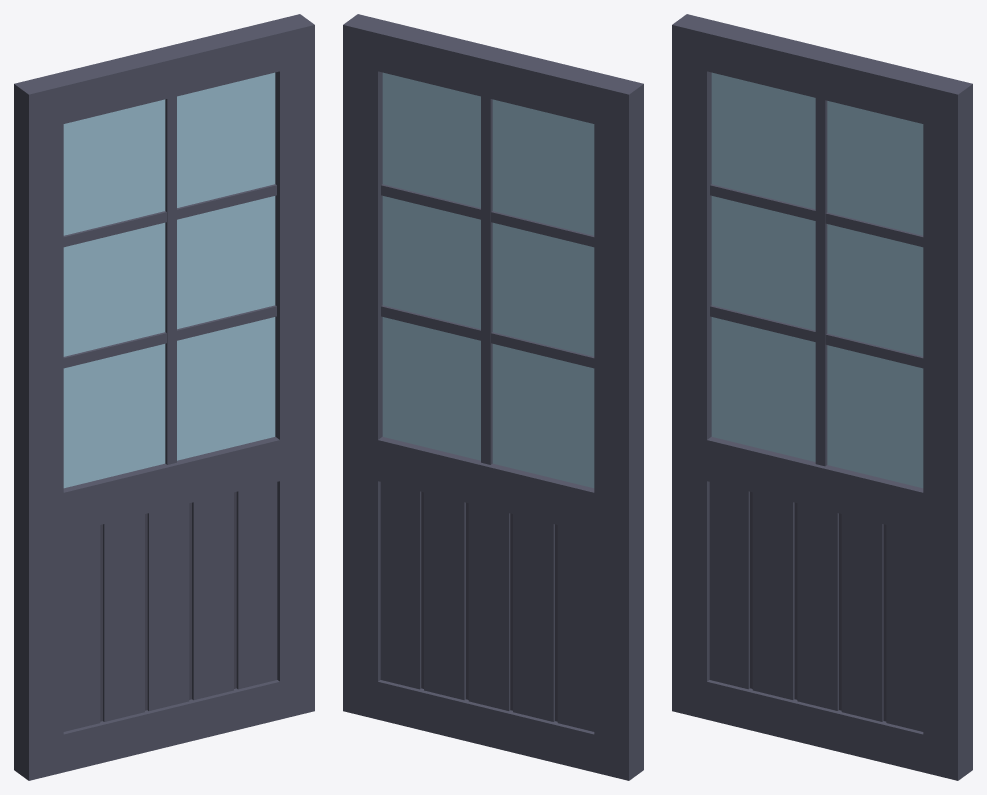
File: Door6_C4.fbx
3 views of the same model, side by side, from view 1: azimuth 30°, elevation 25°; view 2: azimuth 150°, elevation 25°; view 3: azimuth 330°, elevation 25° (orthographic).
Parts seen in each view (by area): view 1: Door6_C4; view 2: Door6_C4; view 3: Door6_C4.
Boxes of the visible parts, bbox=[...] form: Door6_C4: bbox=[14, 14, 314, 780]; Door6_C4: bbox=[343, 14, 643, 780]; Door6_C4: bbox=[672, 14, 972, 780].
Bounding box in the file's own units: 0.89 × 2.04 × 0.08.
